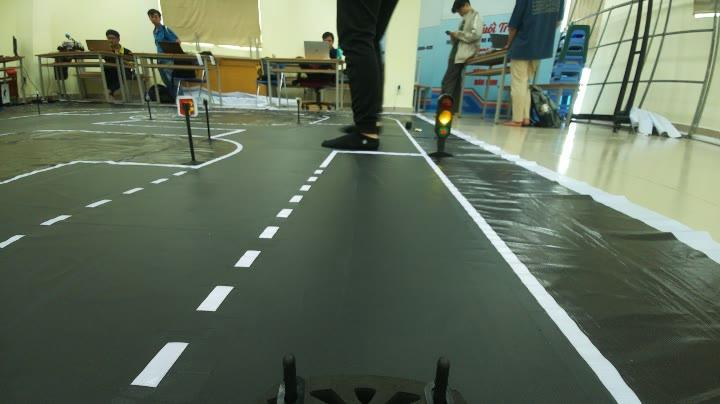trafficlight: (422, 90, 461, 165)
